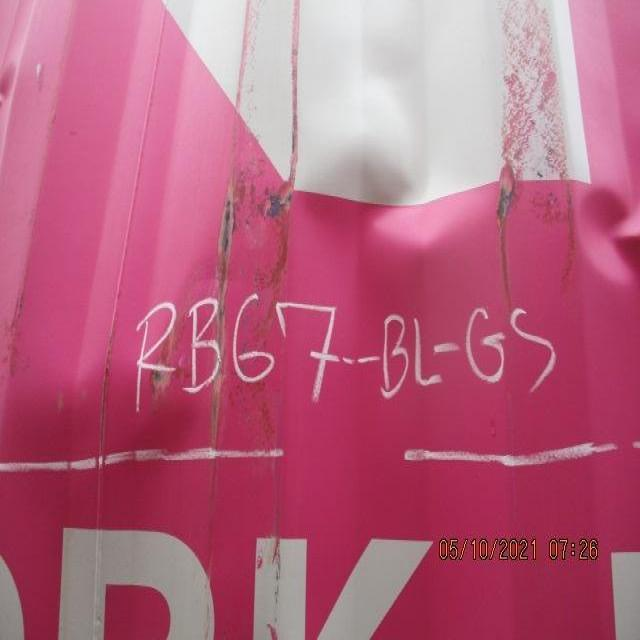Dent: (4, 108, 638, 496)
